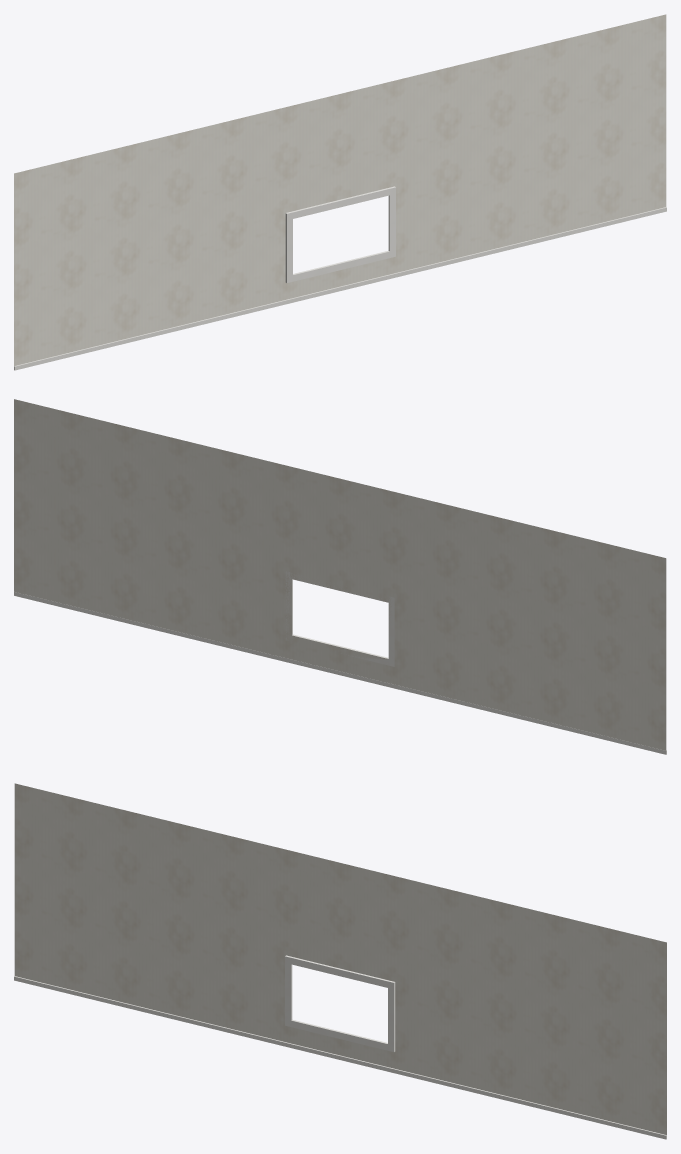
The picture shows the model from 3 angles, top to bottom: view 1: azimuth 30°, elevation 25°; view 2: azimuth 150°, elevation 25°; view 3: azimuth 330°, elevation 25°; orthographic projection.
Parts seen in each view (by area): view 1: jx_wm_24_f64c8ab8; view 2: jx_wm_24_f64c8ab8; view 3: jx_wm_24_f64c8ab8.
Boxes of the visible parts, x1,y1,x2,y2 form: jx_wm_24_f64c8ab8: (14,14,666,370); jx_wm_24_f64c8ab8: (14,399,666,754); jx_wm_24_f64c8ab8: (14,783,666,1139).
Size of the model in its own units: 24.3 by 7 by 0.086.
Materials: 2 (2 with a texture image).
